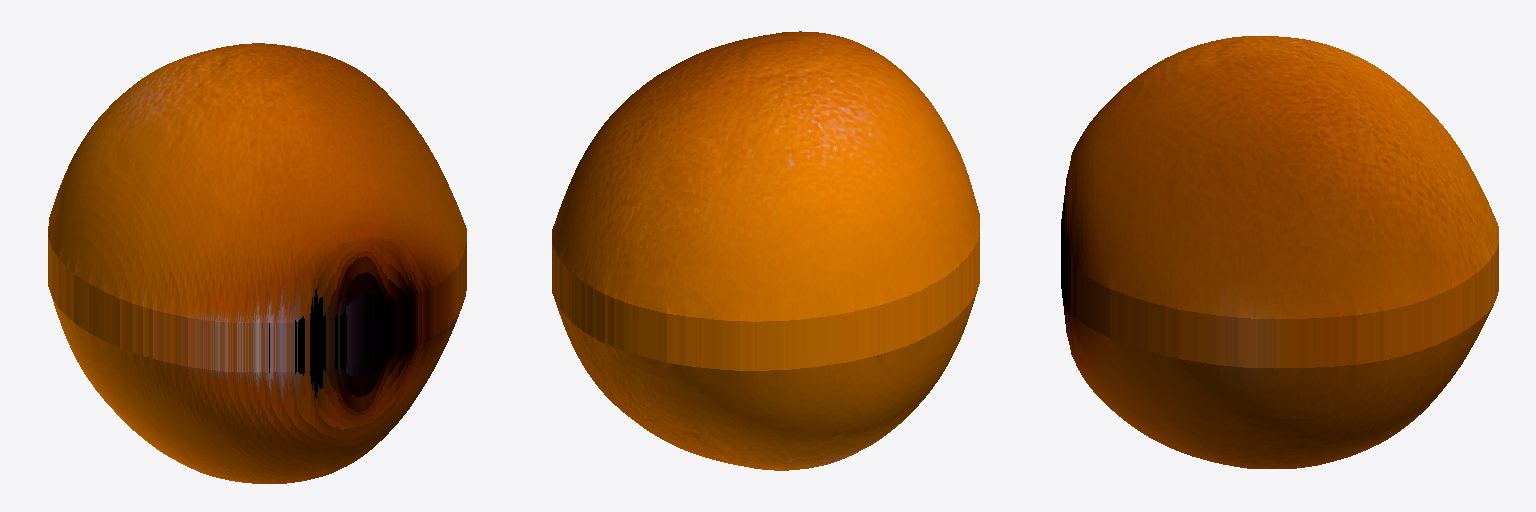
3 renders of one model, left to right at view 1: azimuth 30°, elevation 25°; view 2: azimuth 150°, elevation 25°; view 3: azimuth 270°, elevation 25°, orthographic.
Parts seen in each view (by area): view 1: Grid; view 2: Grid; view 3: Grid.
Boxes of the visible parts, box(x1,y1,x2,y2) form: Grid: box(48, 43, 466, 483); Grid: box(552, 31, 979, 470); Grid: box(1061, 36, 1498, 468).
Bounding box in the file's own units: 1.53 × 1.6 × 1.61.
Materials: 1 (1 with a texture image).